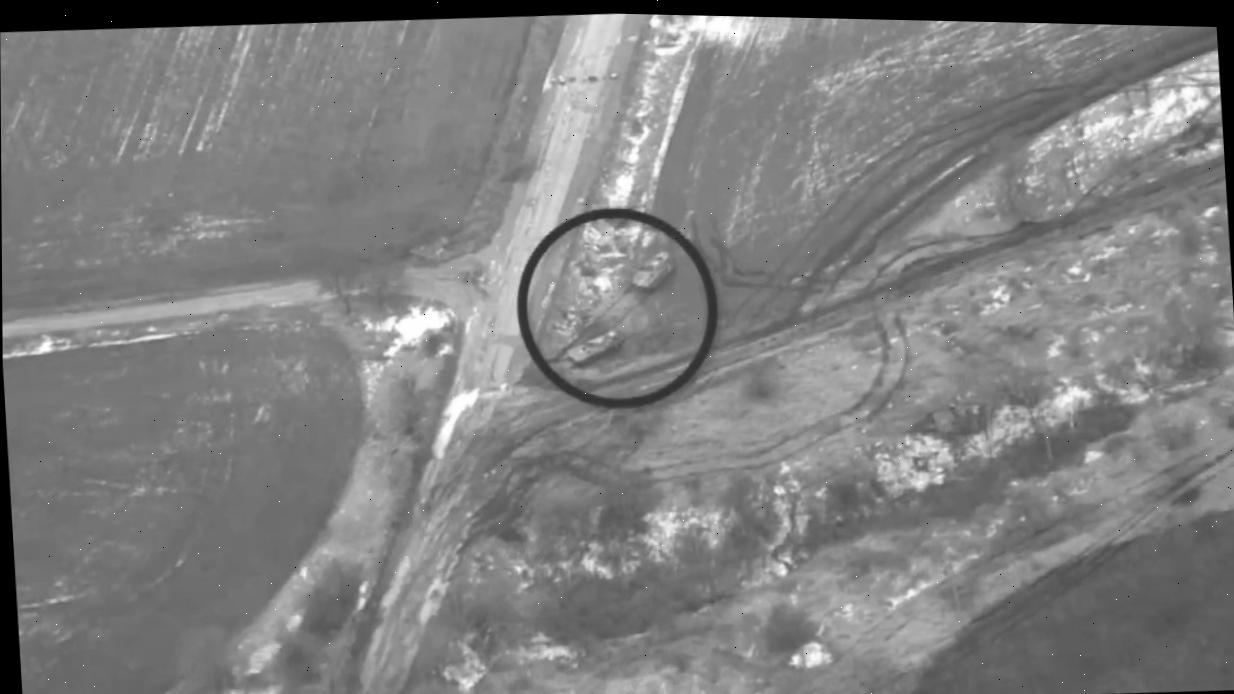tank: (565, 328, 627, 366), (631, 248, 677, 292)
